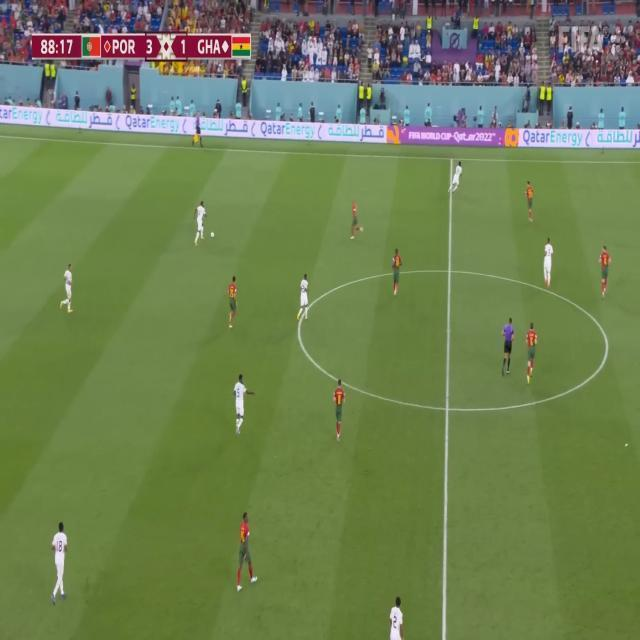player: (237, 510, 259, 595), (49, 518, 70, 607), (232, 375, 257, 436), (191, 196, 216, 252), (522, 318, 542, 388), (226, 270, 243, 330), (58, 263, 76, 319), (387, 591, 407, 640), (387, 248, 405, 302), (346, 194, 364, 248), (599, 236, 613, 299), (522, 175, 539, 225), (541, 233, 555, 293), (299, 268, 314, 323), (333, 376, 346, 439), (449, 155, 466, 198)
